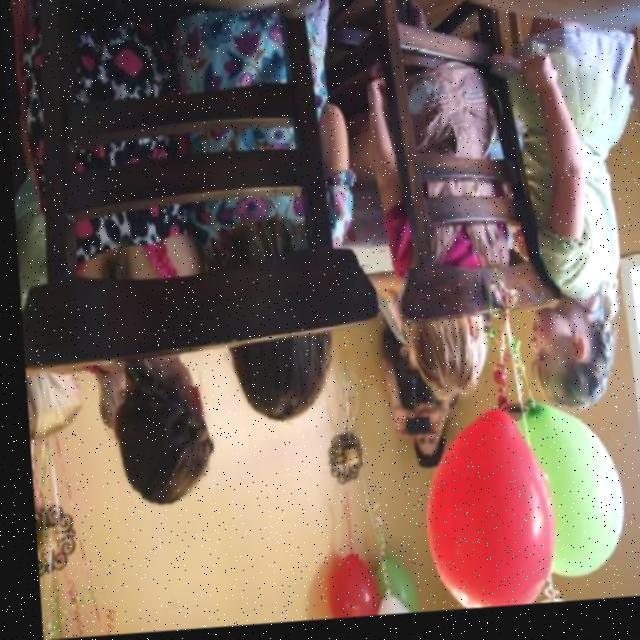balloon: (407, 402, 555, 618), (488, 388, 626, 592), (309, 552, 377, 624), (363, 550, 410, 621)
